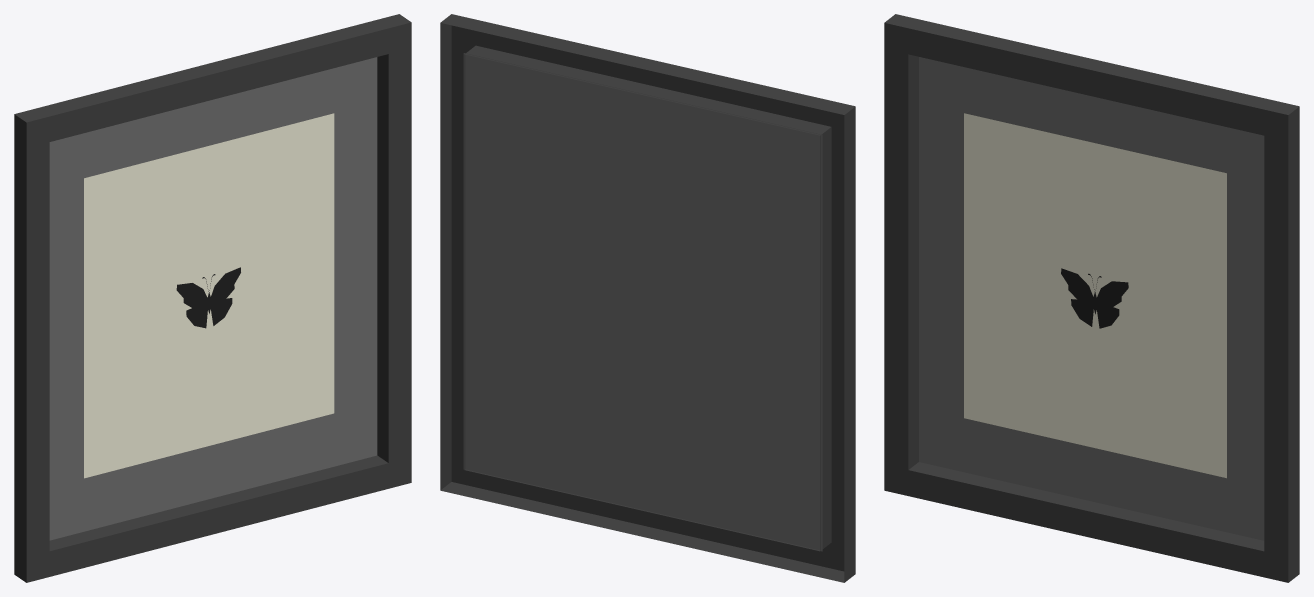
The model's file is Photo_Frame_M_02.fbx.
3 renders of one model, left to right at view 1: azimuth 30°, elevation 25°; view 2: azimuth 150°, elevation 25°; view 3: azimuth 330°, elevation 25°, orthographic.
Parts seen in each view (by area): view 1: Photo_Frame_M_02; view 2: Photo_Frame_M_02; view 3: Photo_Frame_M_02.
Boxes of the visible parts, left/top/right/bottom form: Photo_Frame_M_02: left=14, top=14, right=411, bottom=582; Photo_Frame_M_02: left=440, top=14, right=855, bottom=582; Photo_Frame_M_02: left=884, top=14, right=1299, bottom=582.
Size of the model in its own units: 55.43 by 62.21 by 4.41.
1 material, 1 textured.
